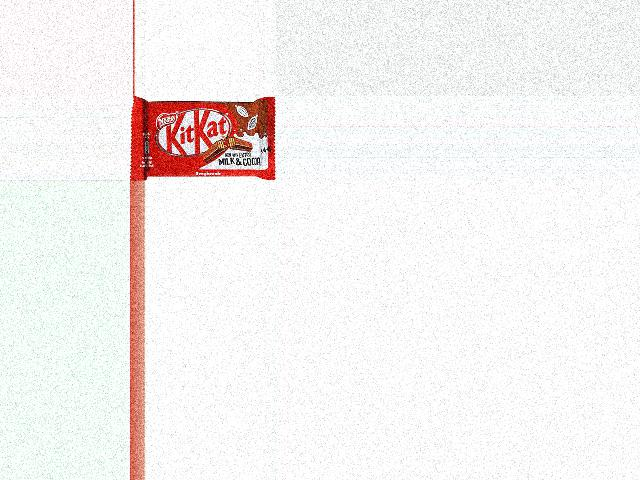chocolate: (131, 96, 276, 181)
